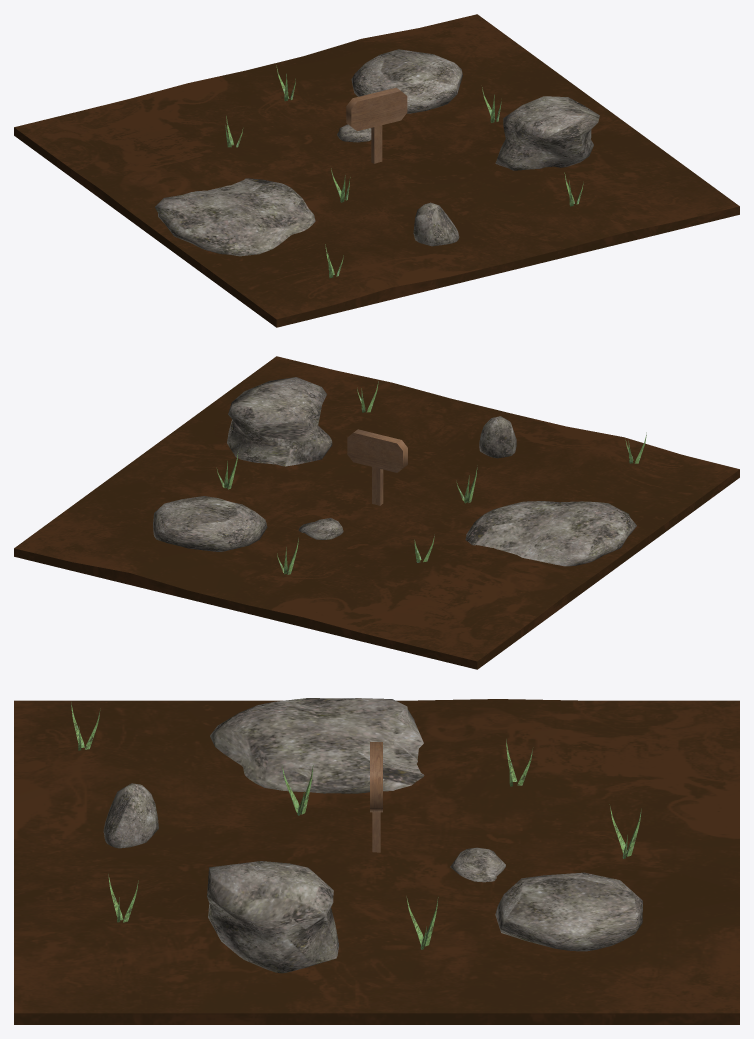
The model's file is LockedPlot.fbx.
3 renders of one model, top to bottom at view 1: azimuth 30°, elevation 25°; view 2: azimuth 150°, elevation 25°; view 3: azimuth 270°, elevation 25°, orthographic. The views are drawn at different scales.
Visible parts, largest first — view 1: Cube; view 2: Cube; view 3: Cube.
Boxes of the visible parts, box(x1,y1,x2,y2) form: Cube: box(14, 14, 739, 327); Cube: box(14, 356, 739, 669); Cube: box(14, 698, 739, 1024).
Bounding box in the file's own units: 1131 × 197 × 1109.
